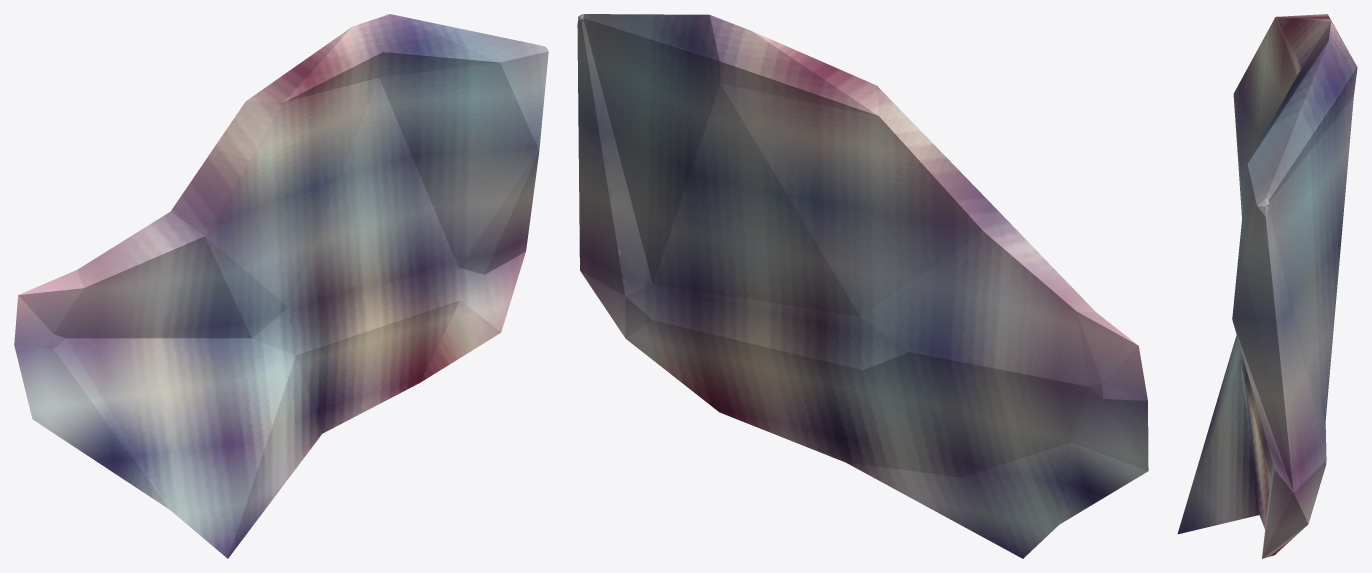
Rendered from food_booths.glb.
The picture shows the model from 3 angles, left to right: view 1: azimuth 30°, elevation 25°; view 2: azimuth 150°, elevation 25°; view 3: azimuth 270°, elevation 25°; orthographic projection. The views are drawn at different scales.
Visible parts, largest first — view 1: geometry_0; view 2: geometry_0; view 3: geometry_0.
Part boxes in pixels (left/top/right/bottom): geometry_0: left=14, top=14, right=548, bottom=558; geometry_0: left=577, top=14, right=1148, bottom=558; geometry_0: left=1177, top=14, right=1357, bottom=558.
Bounding box in the file's own units: 0.0448 × 0.0379 × 0.00964.
1 material, 1 textured.
